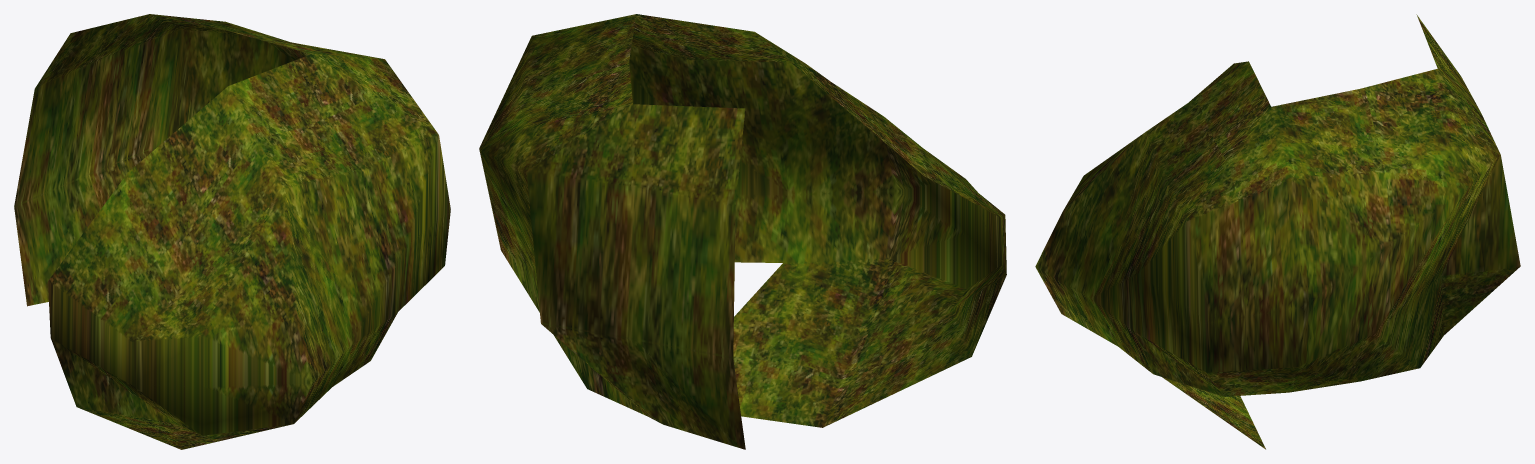
File: TROLLHOLE02_BOX322.fbx
The picture shows the model from 3 angles, left to right: view 1: azimuth 30°, elevation 25°; view 2: azimuth 150°, elevation 25°; view 3: azimuth 270°, elevation 25°; orthographic projection. The views are drawn at different scales.
Visible parts, largest first — view 1: TROLLHOLE02_BOX322; view 2: TROLLHOLE02_BOX322; view 3: TROLLHOLE02_BOX322.
Part boxes in pixels (x1=…): TROLLHOLE02_BOX322: x1=14, y1=14, x2=450, y2=449; TROLLHOLE02_BOX322: x1=479, y1=14, x2=1006, y2=449; TROLLHOLE02_BOX322: x1=1035, y1=14, x2=1520, y2=449.
Bounding box in the file's own units: 75708 × 62302 × 76249.
Materials: 1 (1 with a texture image).
